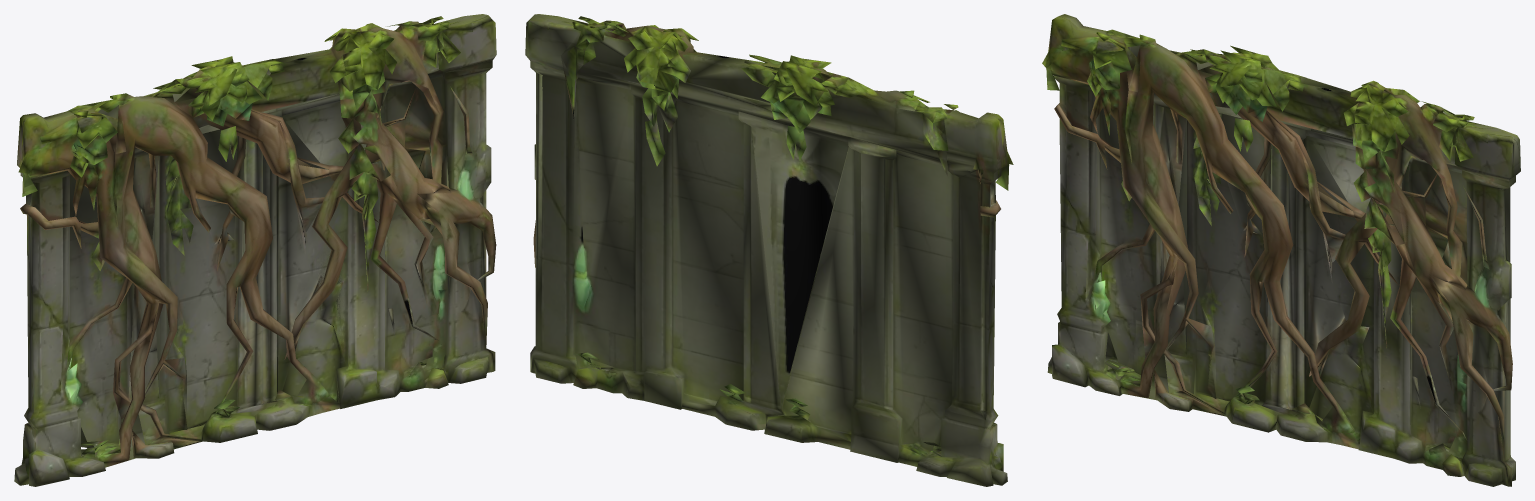
File: overlay_2.fbx
3 views of the same model, side by side, from view 1: azimuth 30°, elevation 25°; view 2: azimuth 150°, elevation 25°; view 3: azimuth 330°, elevation 25° (orthographic).
Parts seen in each view (by area): view 1: overlay_2; view 2: overlay_2; view 3: overlay_2.
Boxes of the visible parts, left/top/right/bottom form: overlay_2: left=14, top=14, right=496, bottom=486; overlay_2: left=525, top=14, right=1013, bottom=486; overlay_2: left=1042, top=14, right=1520, bottom=486.
Bounding box in the file's own units: 3.9 × 2.91 × 0.3.
1 material, 1 textured.
